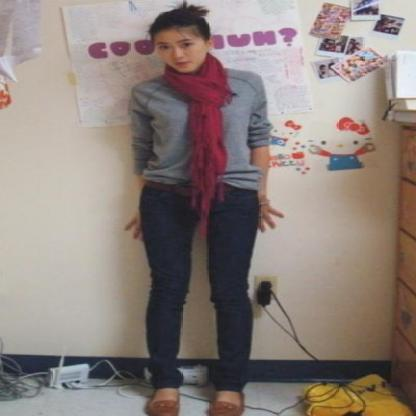jacket: (125, 68, 287, 188)
pants: (139, 181, 260, 394)
shoe: (144, 398, 236, 416)
